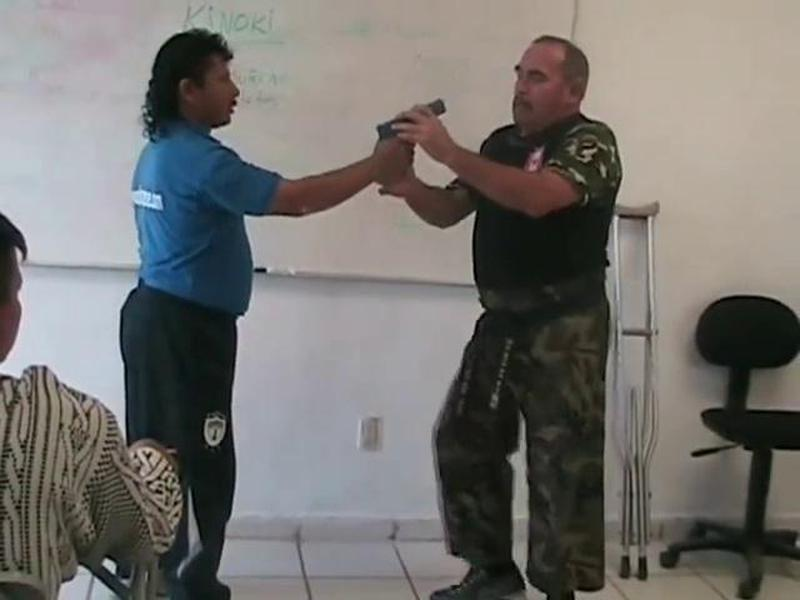Pistola: (375, 78, 457, 167)
